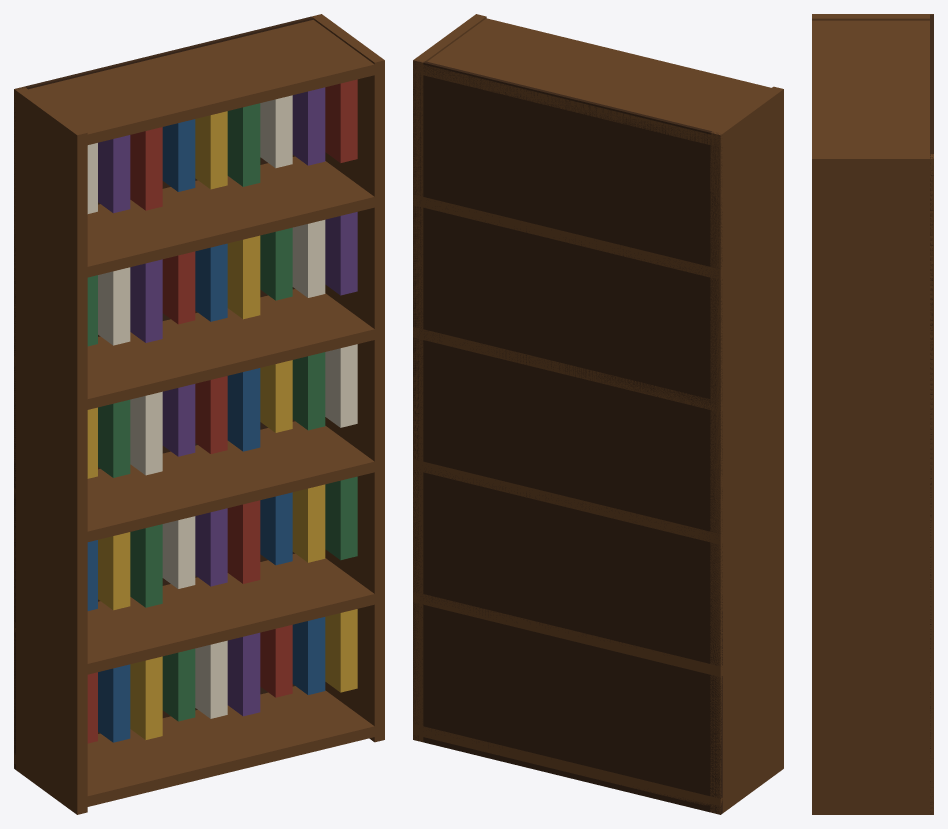
Rendered from bookcase.obj.
The picture shows the model from 3 angles, left to right: view 1: azimuth 30°, elevation 25°; view 2: azimuth 150°, elevation 25°; view 3: azimuth 270°, elevation 25°; orthographic projection. The views are drawn at different scales.
Parts seen in each view (by area): view 1: bookcase_0, bookcase_7, bookcase_1, bookcase_3, bookcase_4, bookcase_2, bookcase_6, bookcase_5, bookcase_8, bookcase_32, bookcase_50, bookcase_23 (+42 smaller); view 2: bookcase_8, bookcase_0, bookcase_7, bookcase_1, bookcase_3, bookcase_4, bookcase_2, bookcase_6, bookcase_5; view 3: bookcase_1, bookcase_7, bookcase_8, bookcase_0, bookcase_3, bookcase_4.
Boxes of the visible parts, x1,y1,x2,y2 form: bookcase_0: (14, 87, 87, 814); bookcase_7: (14, 19, 384, 147); bookcase_1: (312, 14, 384, 742); bookcase_3: (14, 553, 384, 677); bookcase_4: (14, 421, 384, 544); bookcase_2: (14, 686, 384, 807); bookcase_6: (14, 156, 384, 279); bookcase_5: (14, 289, 384, 411); bookcase_8: (14, 14, 321, 769); bookcase_32: (227, 368, 260, 451); bookcase_50: (227, 103, 260, 186); bookcase_23: (227, 500, 260, 583); bookcase_8: (413, 59, 722, 814); bookcase_0: (710, 86, 783, 814); bookcase_7: (413, 18, 783, 147); bookcase_1: (413, 14, 486, 742); bookcase_3: (413, 591, 783, 677); bookcase_4: (413, 459, 783, 544); bookcase_2: (413, 724, 783, 806); bookcase_6: (413, 194, 783, 279); bookcase_5: (413, 327, 783, 411); bookcase_1: (812, 154, 933, 814); bookcase_7: (812, 20, 933, 170); bookcase_8: (930, 14, 933, 814); bookcase_0: (812, 14, 933, 20); bookcase_3: (812, 674, 933, 681); bookcase_4: (812, 547, 933, 554).
Size of the model in its own units: 0.9 by 1.9 by 0.32.
